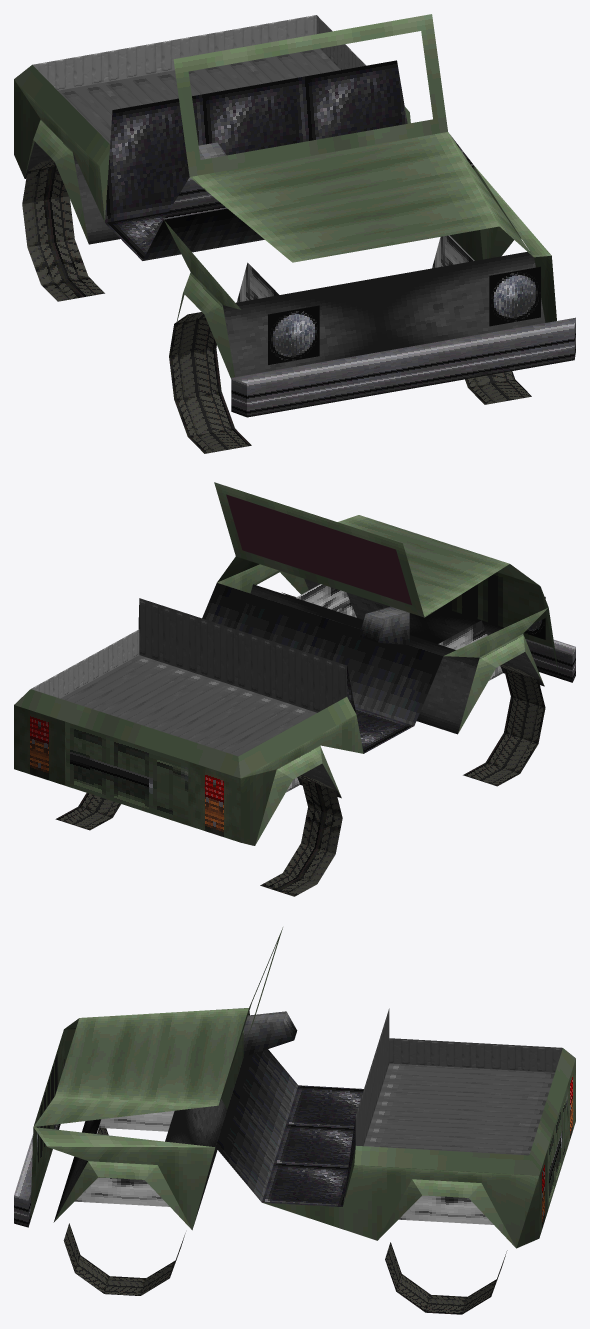
Rendered from primary_064.glb.
The picture shows the model from 3 angles, top to bottom: view 1: azimuth 30°, elevation 25°; view 2: azimuth 150°, elevation 25°; view 3: azimuth 270°, elevation 25°; orthographic projection. The views are drawn at different scales.
Visible parts, largest first — view 1: Object; view 2: Object; view 3: Object.
Boxes of the visible parts, x1,y1,x2,y2 form: Object: (14, 14, 575, 453); Object: (14, 482, 575, 896); Object: (14, 927, 575, 1314).
Bounding box in the file's own units: 2.69 × 2.18 × 4.15.
Materials: 20 (20 with a texture image).
